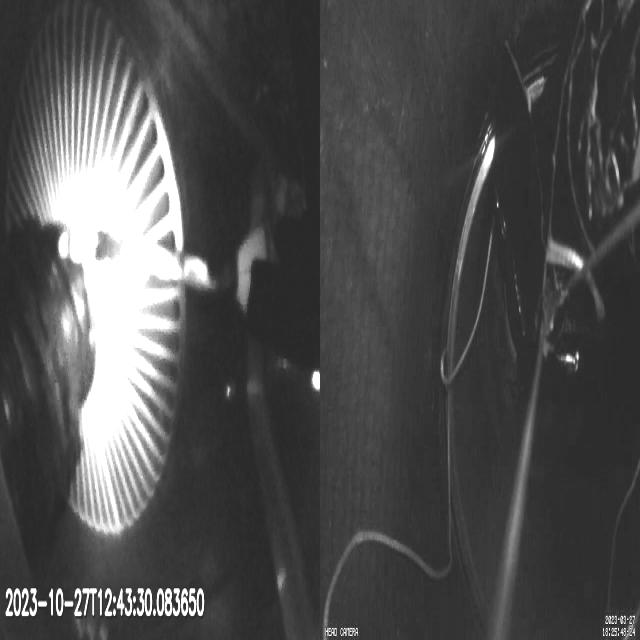head: (237, 234, 288, 309)
white-dots: (58, 224, 98, 270)
